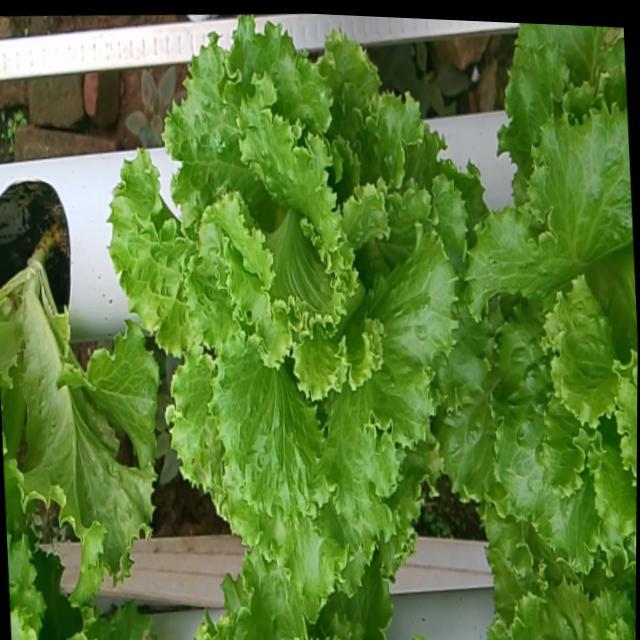Mature: (113, 16, 469, 592), (441, 95, 638, 568)
